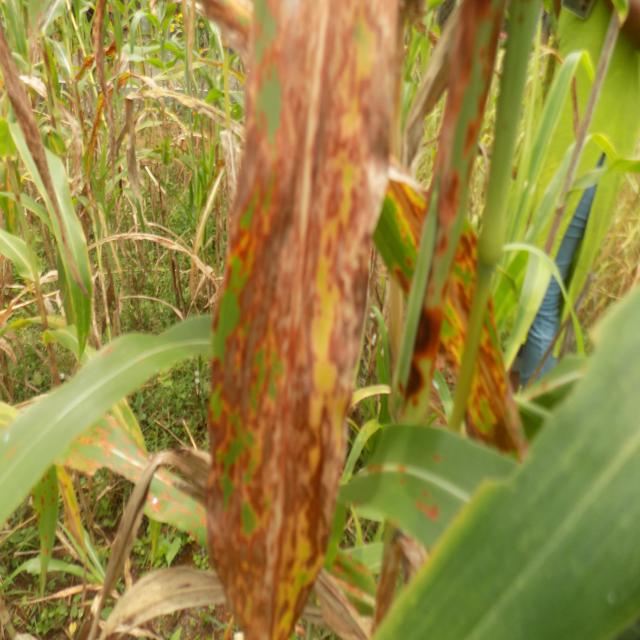millet_healthy: (370, 197, 640, 639), (0, 309, 228, 532), (0, 123, 106, 374)
millet_rust: (198, 0, 532, 466), (204, 0, 408, 640), (81, 424, 221, 640), (94, 553, 399, 640), (328, 421, 502, 557), (0, 20, 65, 269)
